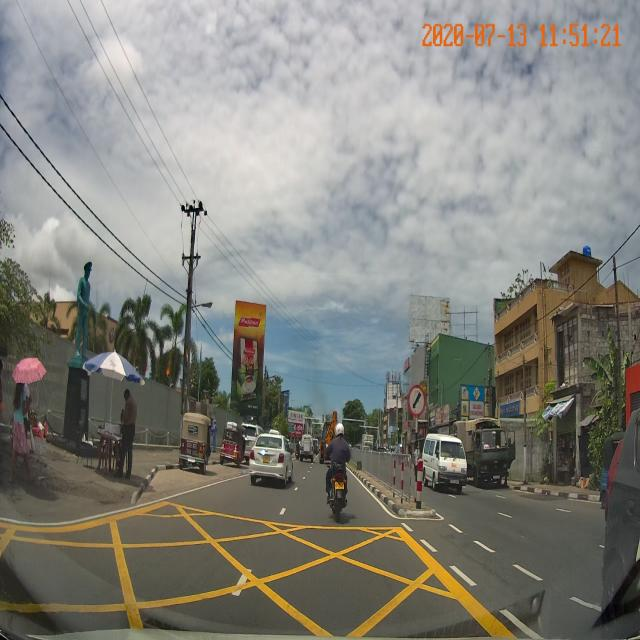Jeltaya razmetka: (1, 498, 519, 639)
